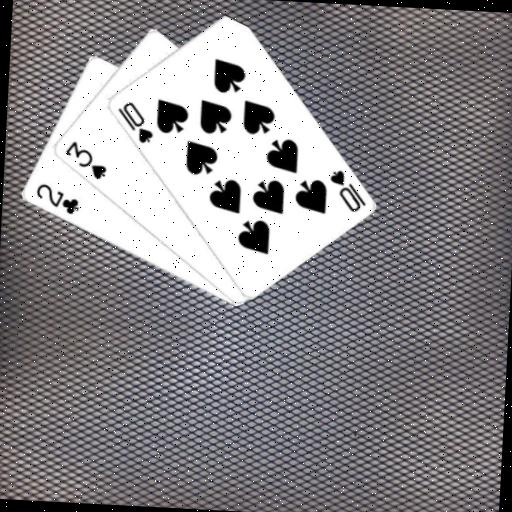10S: (325, 166, 369, 215), (113, 98, 156, 146)
2C: (31, 181, 81, 217)
3S: (60, 138, 110, 181)
